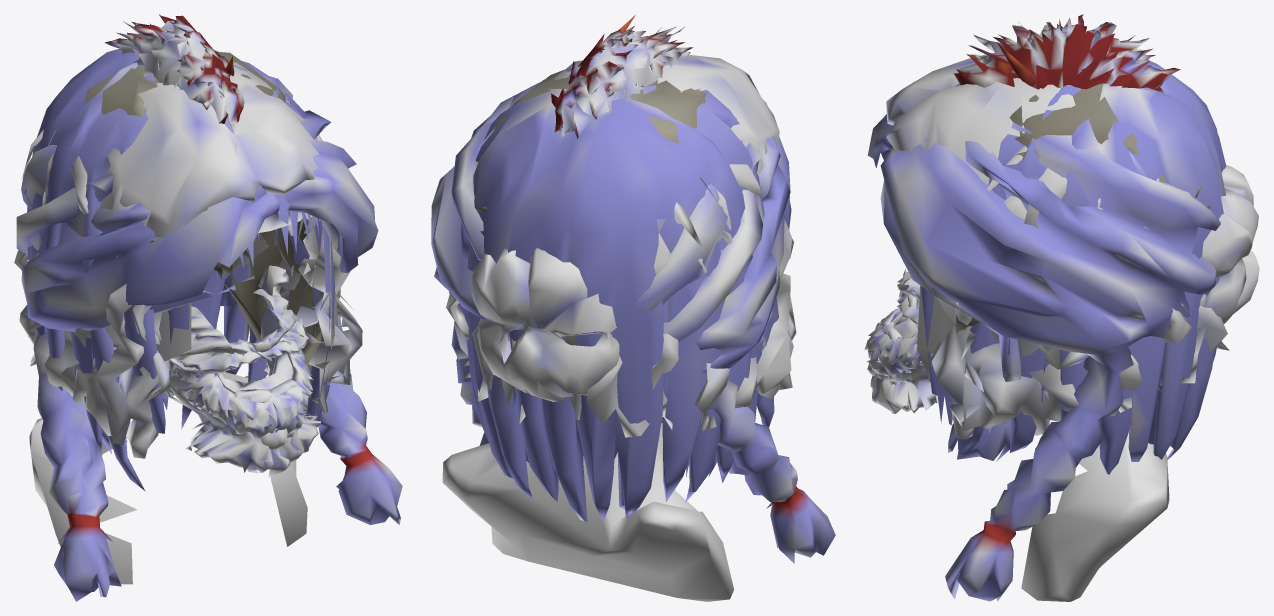
The model's file is groom-pack.glb.
3 renders of one model, left to right at view 1: azimuth 30°, elevation 25°; view 2: azimuth 150°, elevation 25°; view 3: azimuth 270°, elevation 25°, orthographic. The views are drawn at different scales.
Visible parts, largest first — view 1: hair_indigenous_plaits, hair_1550_wavy, hair_indigenous_long, beard_1550_full_mariner, hair_algonquian_roach, hair_1550_coif_cap, beard_1550_tercio_strap, beard_1550_pointed, hair_1550_cropped; view 2: hair_indigenous_long, hair_indigenous_plaits, hair_1550_female_bun, hair_1550_wavy, hair_algonquian_roach, hair_1550_coif_cap, hair_1550_cropped; view 3: hair_indigenous_plaits, hair_indigenous_long, hair_1550_wavy, hair_algonquian_roach, hair_1550_female_bun, hair_1550_coif_cap, beard_1550_full_mariner, beard_1550_tercio_strap, hair_1550_cropped, beard_1550_pointed.
Boxes of the visible parts, <box> form: hair_indigenous_plaits: <box>16,76,402,601</box>; hair_1550_wavy: <box>14,62,362,458</box>; hair_indigenous_long: <box>27,48,337,491</box>; beard_1550_full_mariner: <box>166,265,320,476</box>; hair_algonquian_roach: <box>104,14,244,135</box>; hair_1550_coif_cap: <box>85,51,340,397</box>; beard_1550_tercio_strap: <box>169,320,313,438</box>; beard_1550_pointed: <box>173,289,298,449</box>; hair_1550_cropped: <box>21,100,322,287</box>; hair_indigenous_long: <box>464,68,778,521</box>; hair_indigenous_plaits: <box>431,81,835,601</box>; hair_1550_female_bun: <box>471,247,619,401</box>; hair_1550_wavy: <box>446,55,796,437</box>; hair_algonquian_roach: <box>551,15,693,138</box>; hair_1550_coif_cap: <box>476,69,706,354</box>; hair_1550_cropped: <box>476,143,761,275</box>; hair_indigenous_plaits: <box>867,114,1220,601</box>; hair_indigenous_long: <box>921,60,1226,474</box>; hair_1550_wavy: <box>886,52,1229,439</box>; hair_algonquian_roach: <box>954,14,1180,95</box>; hair_1550_female_bun: <box>1200,165,1259,323</box>; hair_1550_coif_cap: <box>956,83,1210,333</box>; beard_1550_full_mariner: <box>870,278,938,413</box>; beard_1550_tercio_strap: <box>864,278,925,376</box>; hair_1550_cropped: <box>987,145,1205,229</box>; beard_1550_pointed: <box>867,269,922,384</box>.
Size of the model in its own units: 0.3147 by 0.473 by 0.3206.
